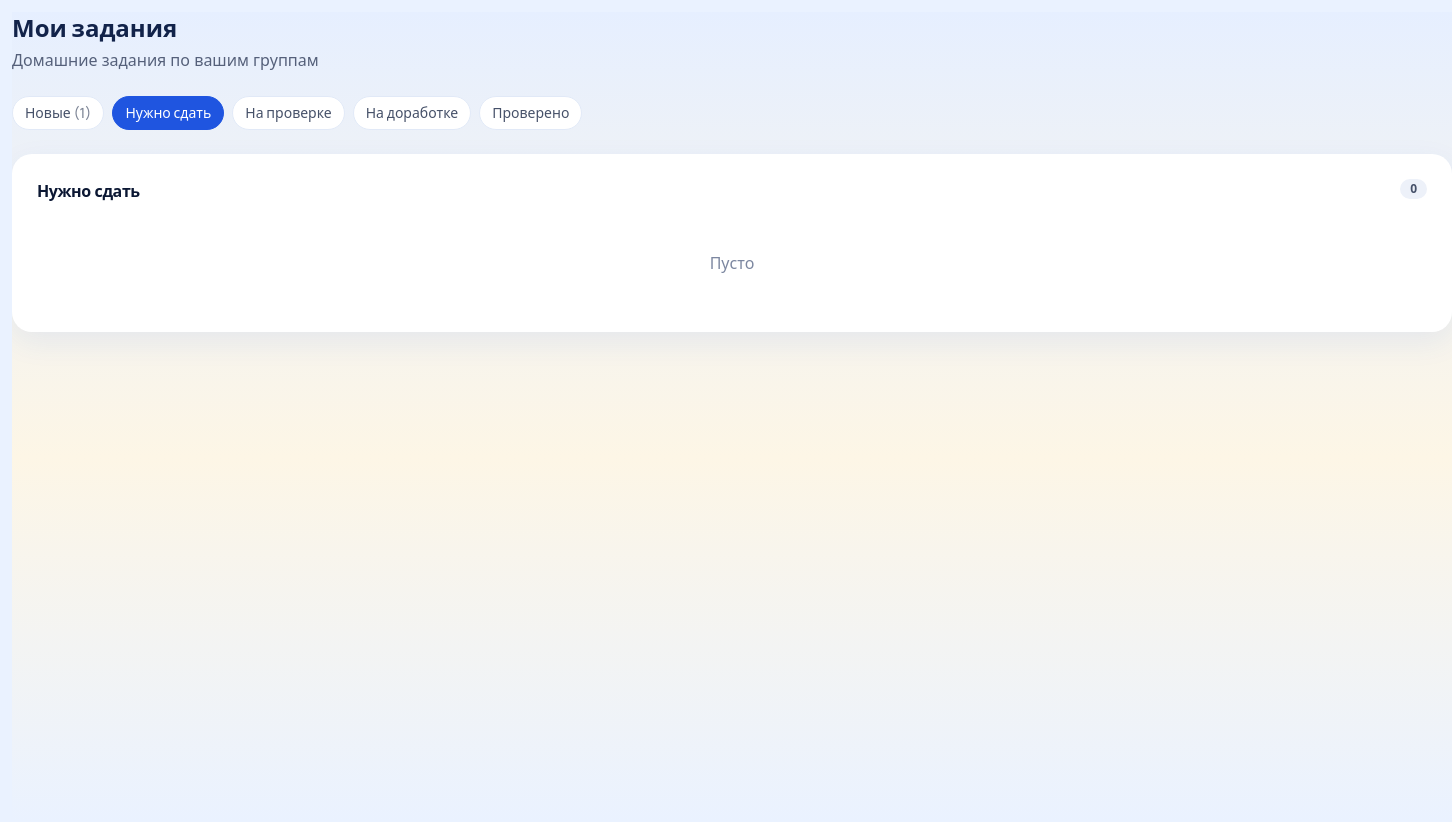
it: MyHomeworksV2Page — категории (server-derived, проверяем что UI их корректно отображает по вкладкам) › new: показывается во вкладке «Новые», кнопка «Сдать»
This screenshot has width=1452, height=822.
Click the button "Новые (1)" at (58, 113), box [12, 96, 104, 130]
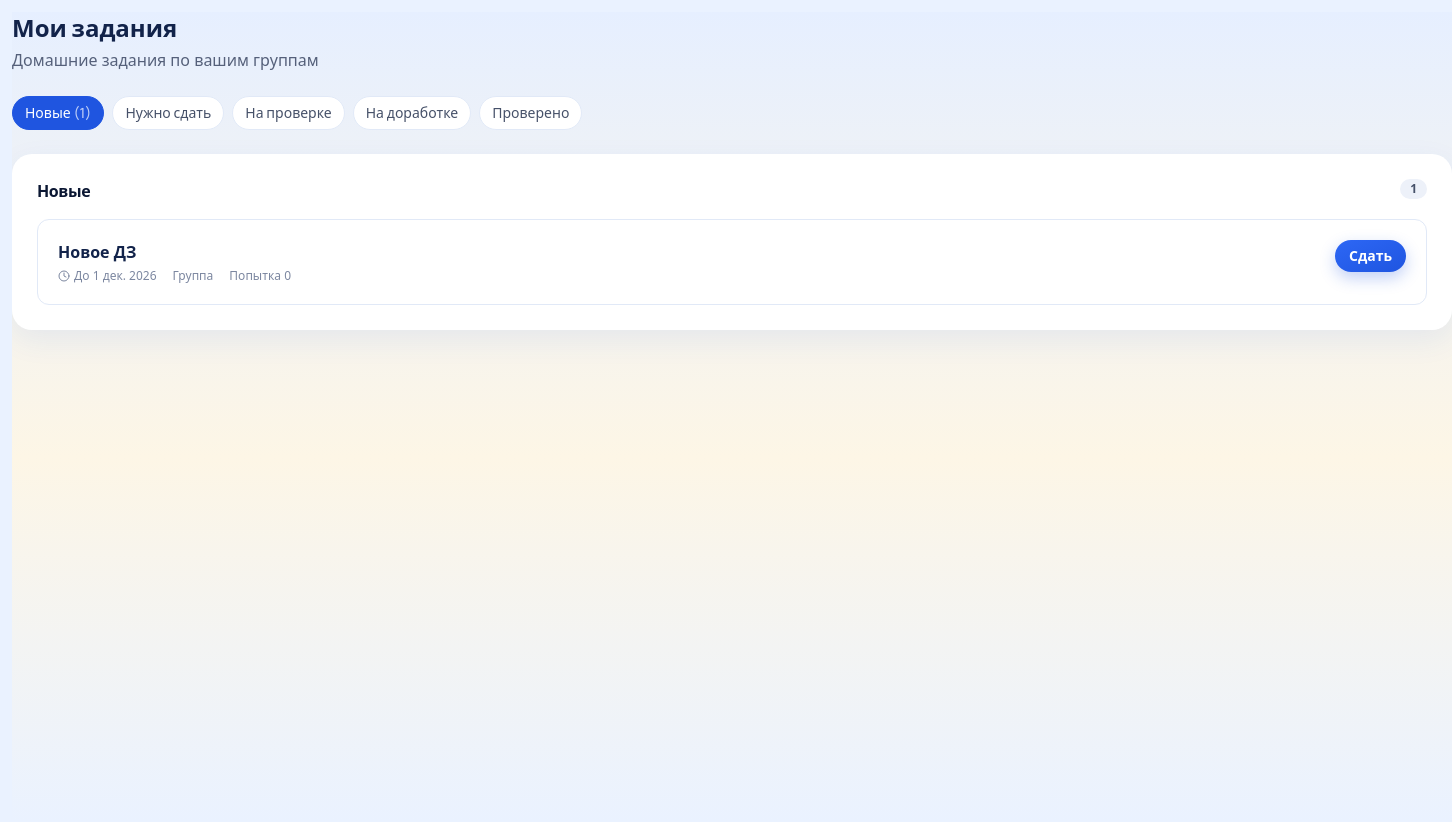
Expected: the button "Сдать" is shown, [1335, 240, 1406, 272]
Expected: the heading "Новое ДЗ" is shown, [58, 240, 136, 264]
